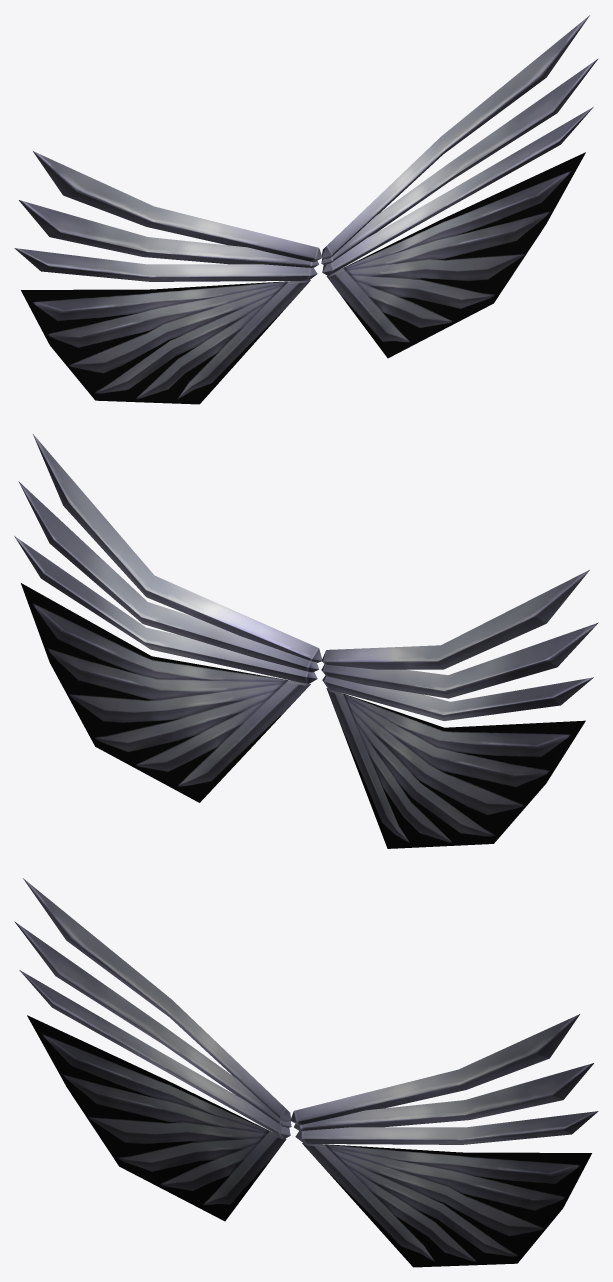
3 views of the same model, one above another, from view 1: azimuth 30°, elevation 25°; view 2: azimuth 150°, elevation 25°; view 3: azimuth 330°, elevation 25° (orthographic).
Parts seen in each view (by area): view 1: 3_Z_18; view 2: 3_Z_18; view 3: 3_Z_18.
Part boxes in pixels (x1,y1,x2,y2): 3_Z_18: (14,15,598,404); 3_Z_18: (14,434,598,848); 3_Z_18: (14,878,598,1267).
Size of the model in its own units: 447 by 42.87 by 230.
